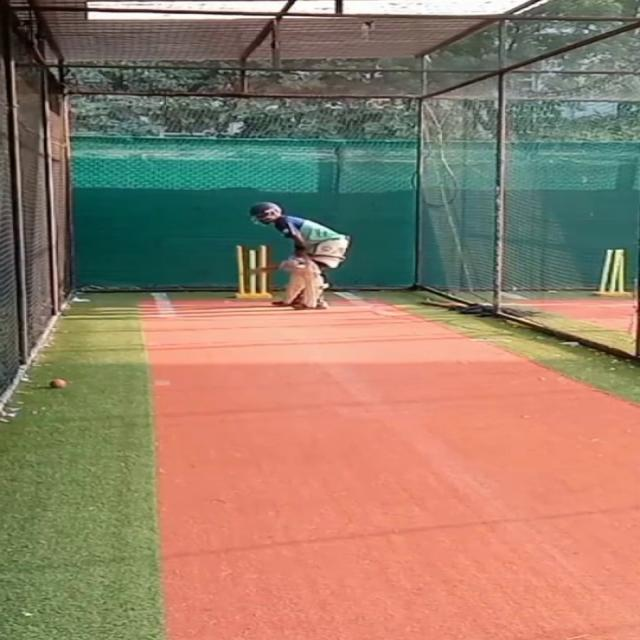ball: (46, 377, 65, 389)
stump: (232, 242, 269, 298)
